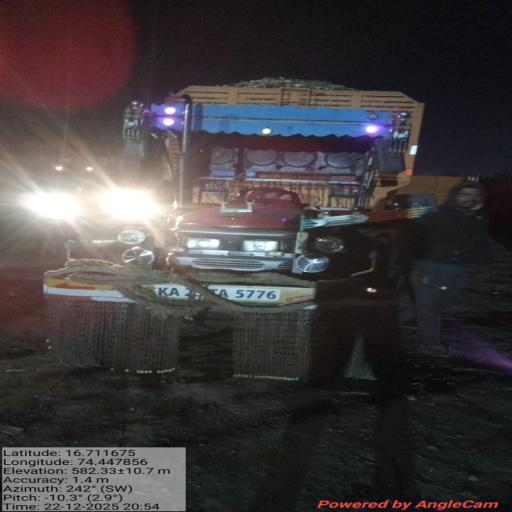number_plate: (130, 275, 300, 315)
